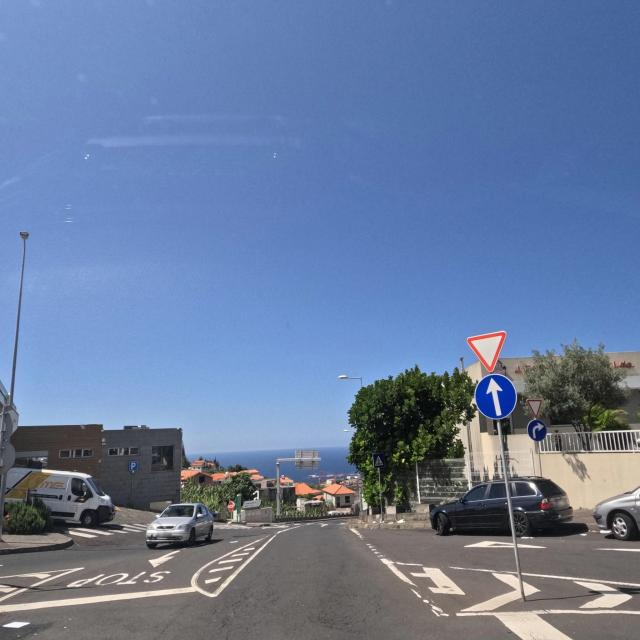car: (429, 476, 574, 536), (21, 470, 116, 528), (592, 471, 640, 542), (145, 502, 214, 549)
